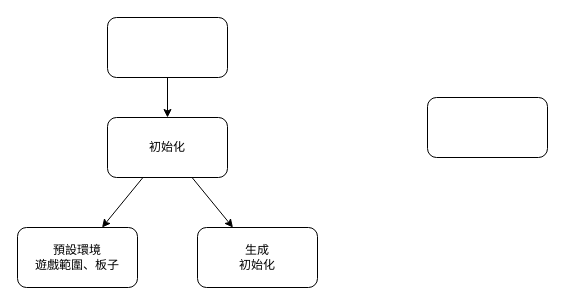
Some shapes in this 565 by 305 pixel diagram are drawn without their labels. The centre of each missing label's shape, as x and y in pixels:
"推進" goes at pixel 487 127.
"開始遊戲" goes at pixel 167 47.
